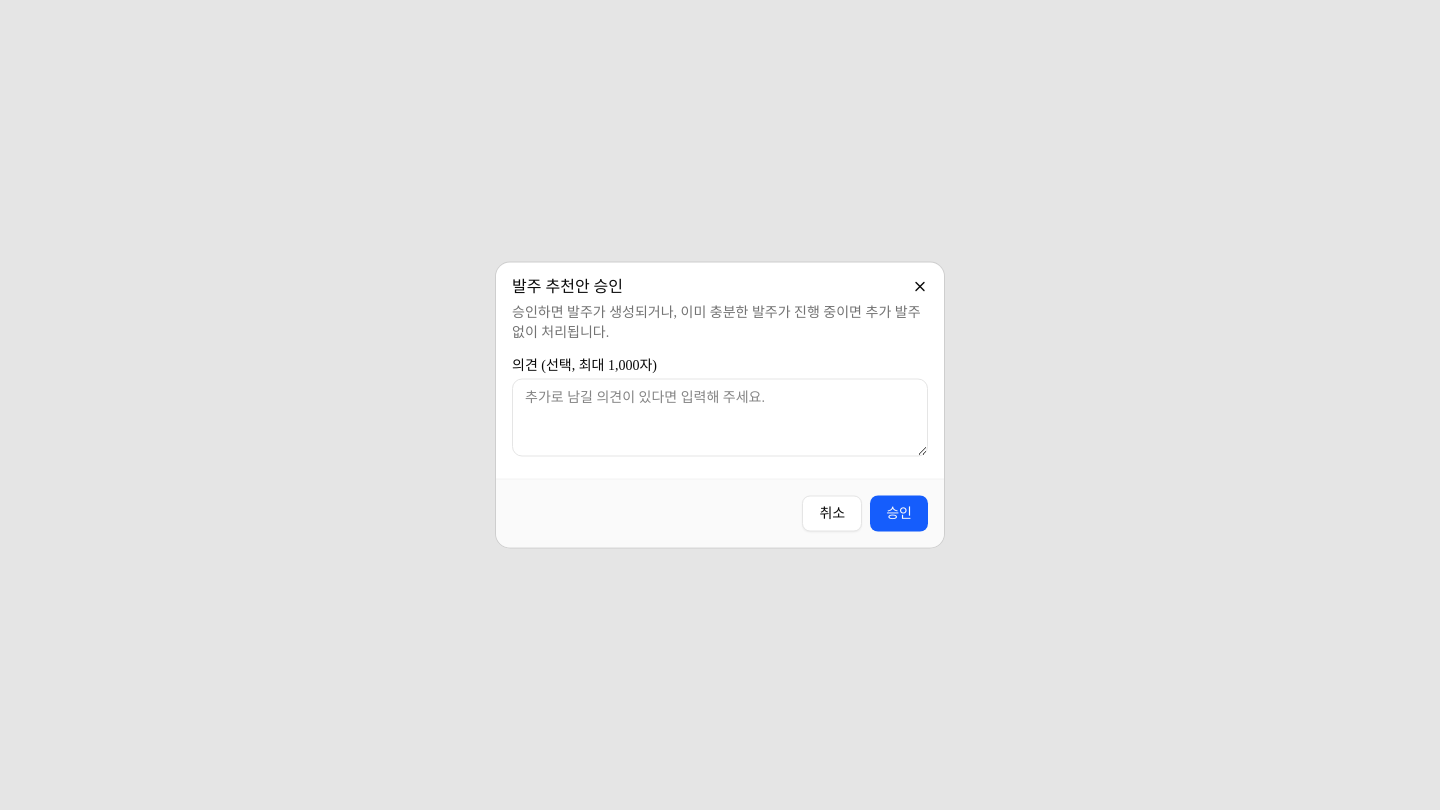
RestockDecisionConfirmDialog › 승인 성공 + NOT_REQUIRED 응답이면 발주 불필요 안내를 보여준다
Click the button "승인" at (899, 514), box [870, 496, 928, 532]
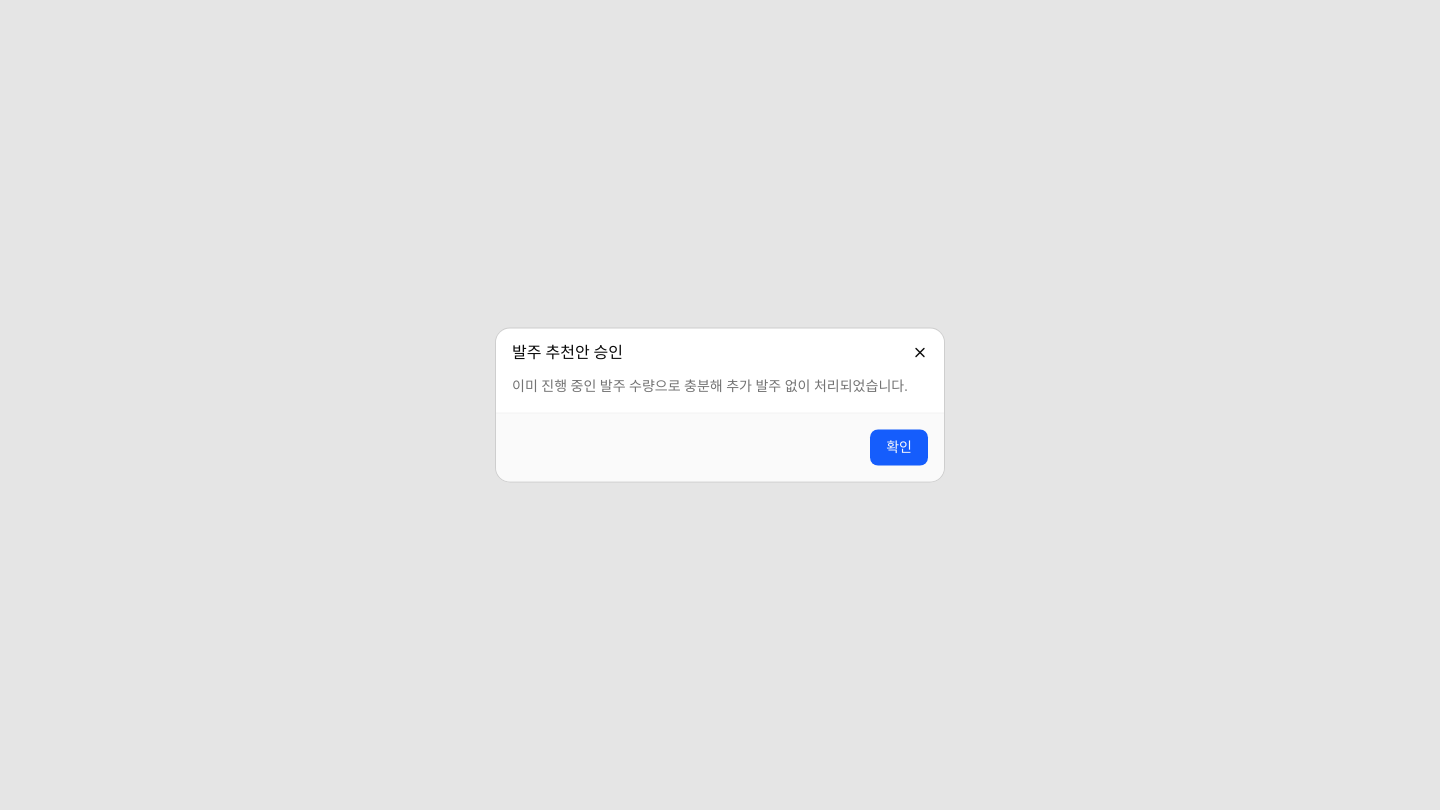
Expected: the text "이미 진행 중인 발주 수량으로 충분해 추가 발주 없이 처리되었습니다." is shown, [512, 376, 928, 396]
